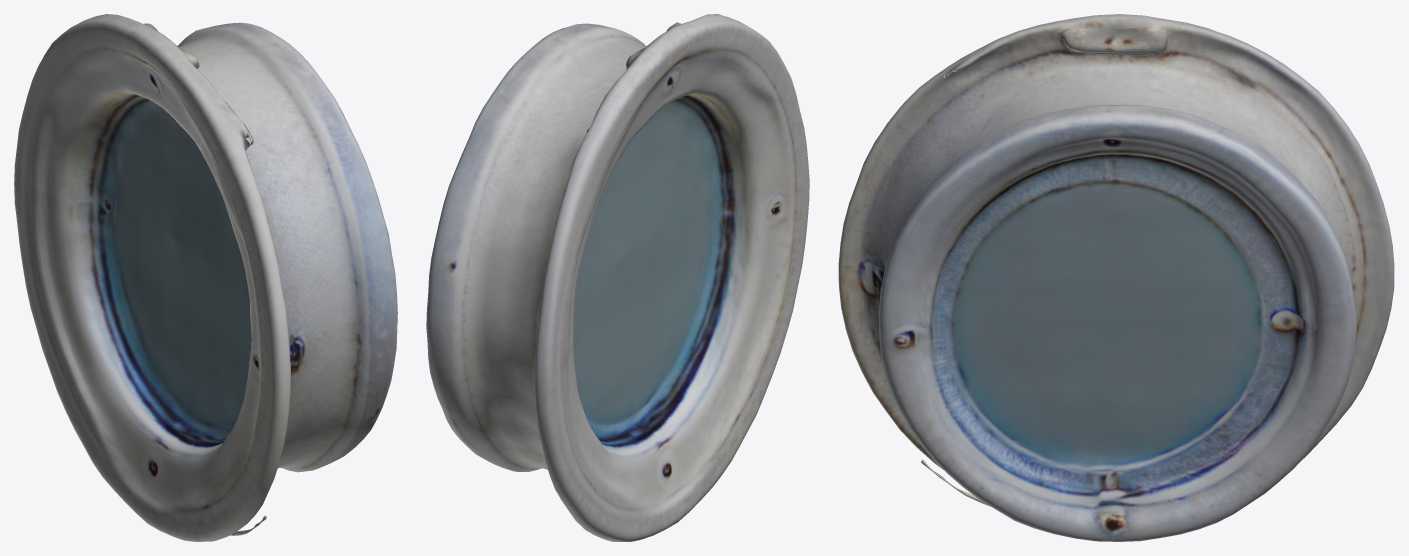
File: 418ce894918a_a_porthole_window_w.fbx
3 views of the same model, side by side, from view 1: azimuth 30°, elevation 25°; view 2: azimuth 150°, elevation 25°; view 3: azimuth 270°, elevation 25° (orthographic). The views are drawn at different scales.
Parts seen in each view (by area): view 1: mesh; view 2: mesh; view 3: mesh.
Boxes of the visible parts, box(x1,y1,x2,y2) form: mesh: box(14, 14, 397, 541); mesh: box(426, 14, 809, 541); mesh: box(838, 14, 1394, 541).
Bounding box in the file's own units: 30.74 × 99.8 × 98.16.
